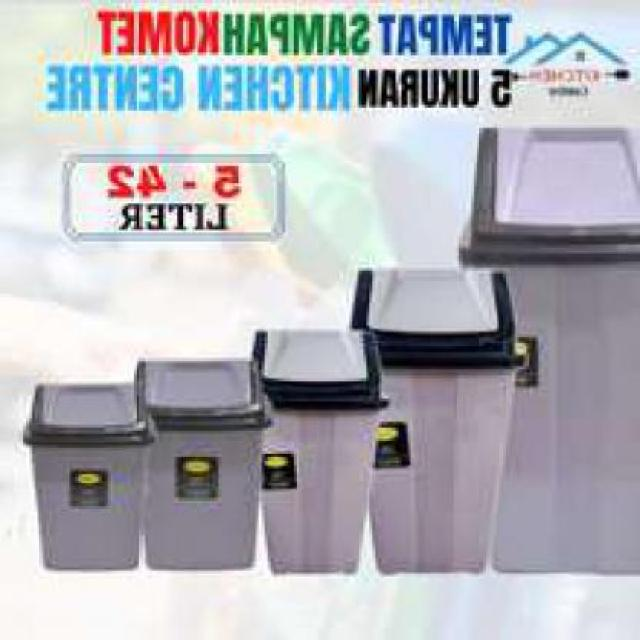garbage container: (459, 122, 638, 580), (343, 267, 522, 579), (256, 323, 390, 591), (134, 349, 258, 576), (15, 375, 152, 579)
